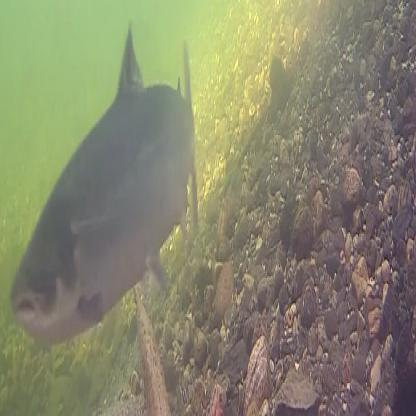salmon: (9, 18, 199, 347)
